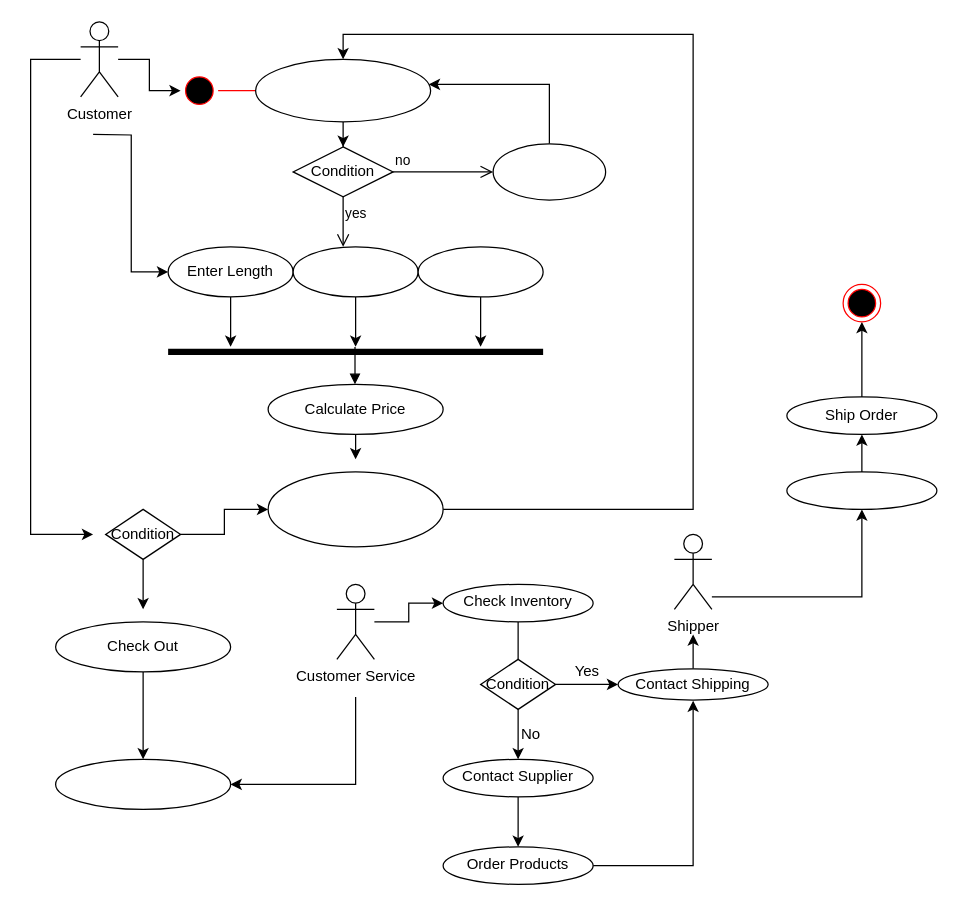
Some shapes in this 959 by 906 pixel diagram are drawn without their labels. Here are the shapes that lost their labels. From the top down, the box of each, then its label:
(254, 58, 431, 122): Enter Wood Type P, F, C, M, O
(492, 142, 606, 200): Error Message
(292, 246, 418, 297): Enter Width
(417, 246, 543, 297): Enter Height
(267, 471, 443, 547): Continue Shopping
(786, 471, 937, 509): Verify Inventory
(54, 758, 231, 809): Make Payment
